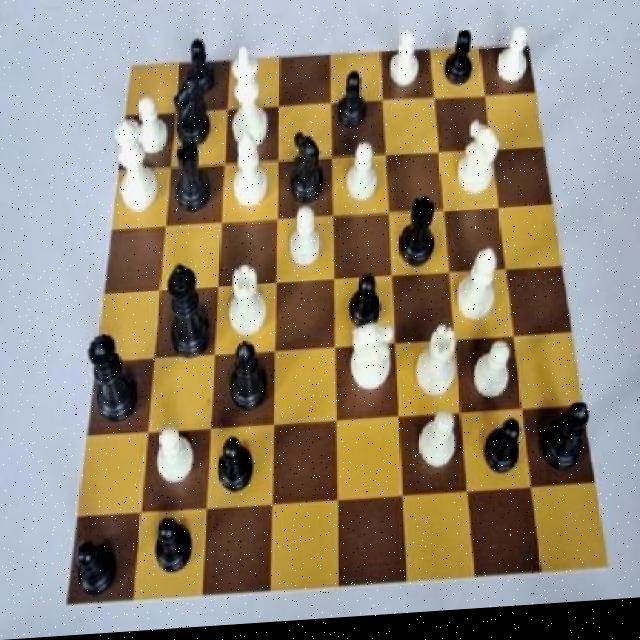bishop: (531, 401, 598, 488), (220, 337, 272, 425)
black-bishop: (158, 252, 214, 372)
black-king: (169, 66, 214, 157), (282, 127, 328, 214)
black-knight: (69, 524, 123, 608), (144, 510, 200, 586), (212, 431, 266, 508), (476, 417, 531, 486), (177, 31, 226, 102), (346, 264, 390, 339), (437, 29, 481, 97), (328, 66, 372, 133)
black-pawn: (84, 326, 144, 434)
black-queen: (394, 192, 443, 283), (167, 140, 215, 225)
black-rook: (450, 246, 504, 338), (222, 124, 272, 221)
white-bishop: (223, 38, 272, 157)
white-king: (450, 118, 508, 210), (344, 316, 398, 405)
white-knight: (464, 342, 518, 411), (415, 406, 463, 483), (124, 88, 172, 165), (150, 419, 198, 491), (340, 137, 384, 212), (282, 203, 326, 276), (494, 23, 535, 97), (382, 32, 426, 100)
white-pawn: (109, 112, 162, 225)
white-queen: (408, 319, 463, 409), (216, 259, 272, 347)
